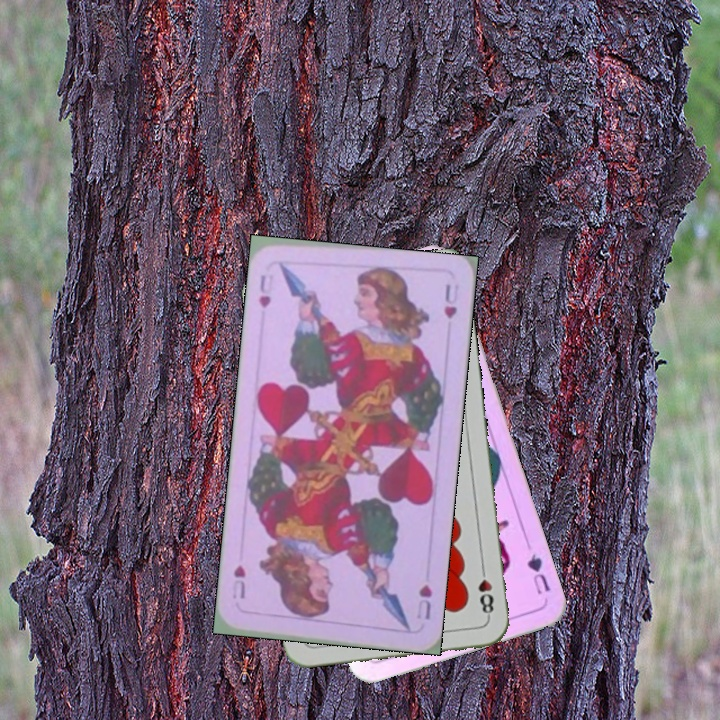GU: (523, 549, 553, 597)
H8: (474, 561, 497, 620)
HU: (413, 581, 435, 622), (254, 270, 276, 310)
